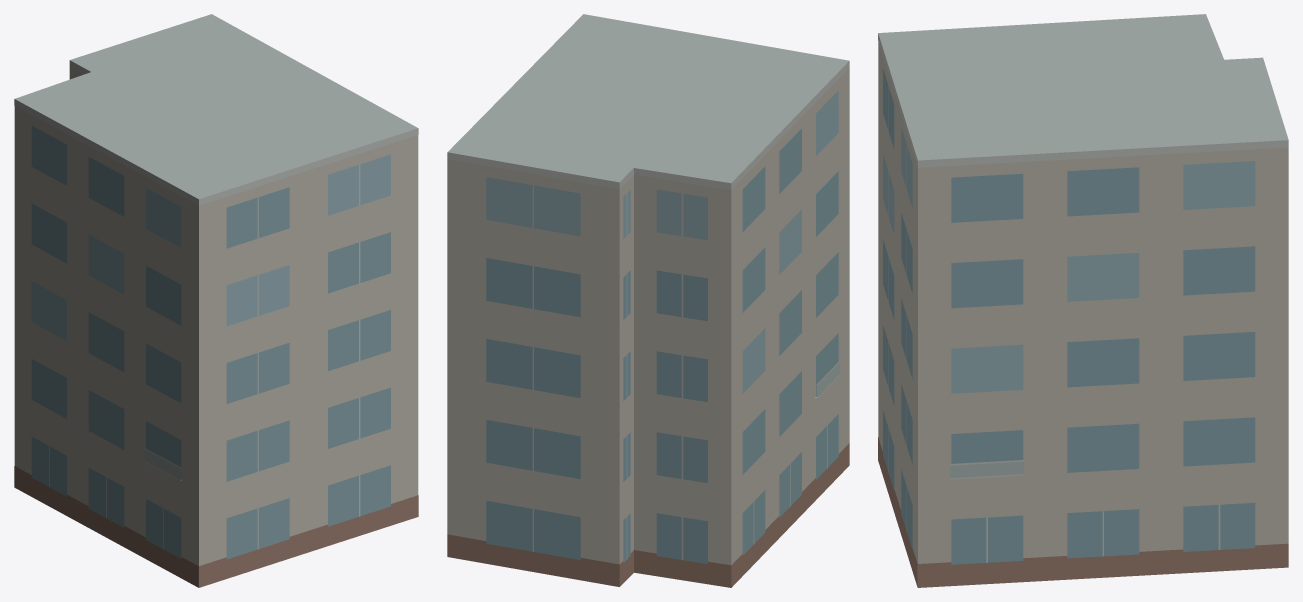
Rendered from survey-upis-32988357.glb.
3 views of the same model, side by side, from view 1: azimuth 30°, elevation 25°; view 2: azimuth 150°, elevation 25°; view 3: azimuth 270°, elevation 25° (orthographic). The views are drawn at different scales.
Visible parts, largest first — view 1: survey-upis-32988357.tmp; view 2: survey-upis-32988357.tmp; view 3: survey-upis-32988357.tmp.
Part boxes in pixels (box(x1,y1,x2,y2)): survey-upis-32988357.tmp: box(14, 14, 418, 587); survey-upis-32988357.tmp: box(447, 14, 849, 587); survey-upis-32988357.tmp: box(878, 14, 1288, 587).
Size of the model in its own units: 10.6 by 14.4 by 12.55.
